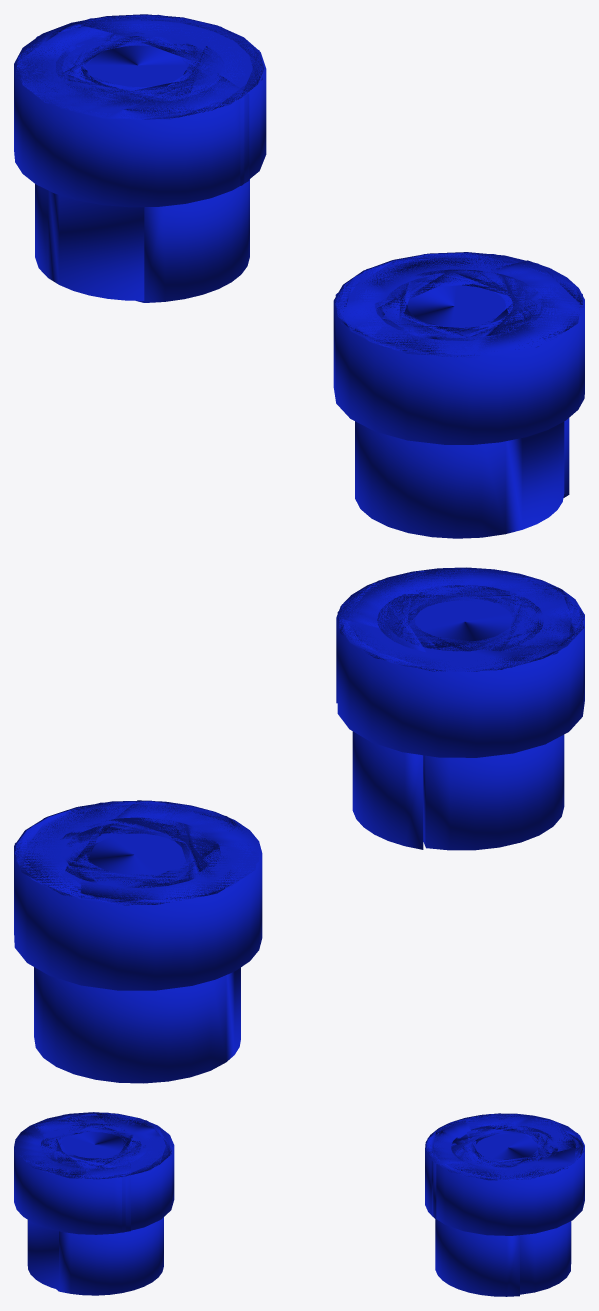
The model's file is tuyeau_element_000075.obj.
The picture shows the model from 3 angles, top to bottom: view 1: azimuth 30°, elevation 25°; view 2: azimuth 150°, elevation 25°; view 3: azimuth 270°, elevation 25°; orthographic projection. The views are drawn at different scales.
Visible parts, largest first — view 1: tuyeau1_Cube.014, tuyeau2_Cube.017; view 2: tuyeau2_Cube.017, tuyeau1_Cube.014; view 3: tuyeau2_Cube.017, tuyeau1_Cube.014.
Part boxes in pixels (x1=…): tuyeau1_Cube.014: x1=14, y1=14, x2=266, y2=302; tuyeau2_Cube.017: x1=333, y1=252, x2=584, y2=538; tuyeau2_Cube.017: x1=336, y1=567, x2=584, y2=850; tuyeau1_Cube.014: x1=14, y1=800, x2=262, y2=1083; tuyeau2_Cube.017: x1=14, y1=1112, x2=174, y2=1295; tuyeau1_Cube.014: x1=425, y1=1113, x2=584, y2=1296.
Size of the model in its own units: 3588 by 2917 by 12567.
